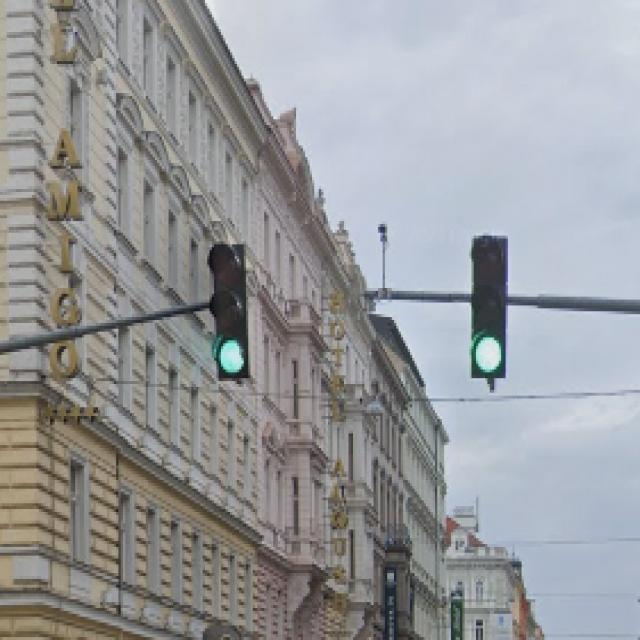green_light: (209, 243, 251, 382), (470, 234, 507, 380)
